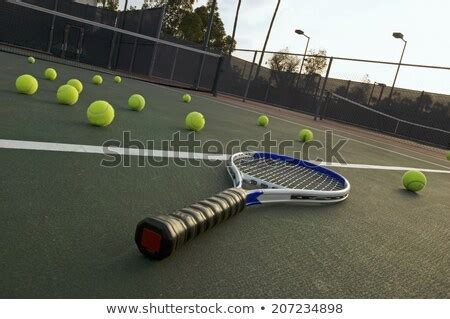tennis_ball: (86, 100, 114, 127), (14, 74, 39, 96), (402, 170, 427, 192), (56, 84, 79, 105), (185, 111, 205, 130), (128, 93, 145, 112), (67, 78, 83, 94), (299, 129, 313, 143), (44, 67, 57, 81), (91, 74, 103, 86), (258, 115, 268, 126), (182, 93, 191, 104), (27, 55, 35, 65), (114, 75, 121, 84)
